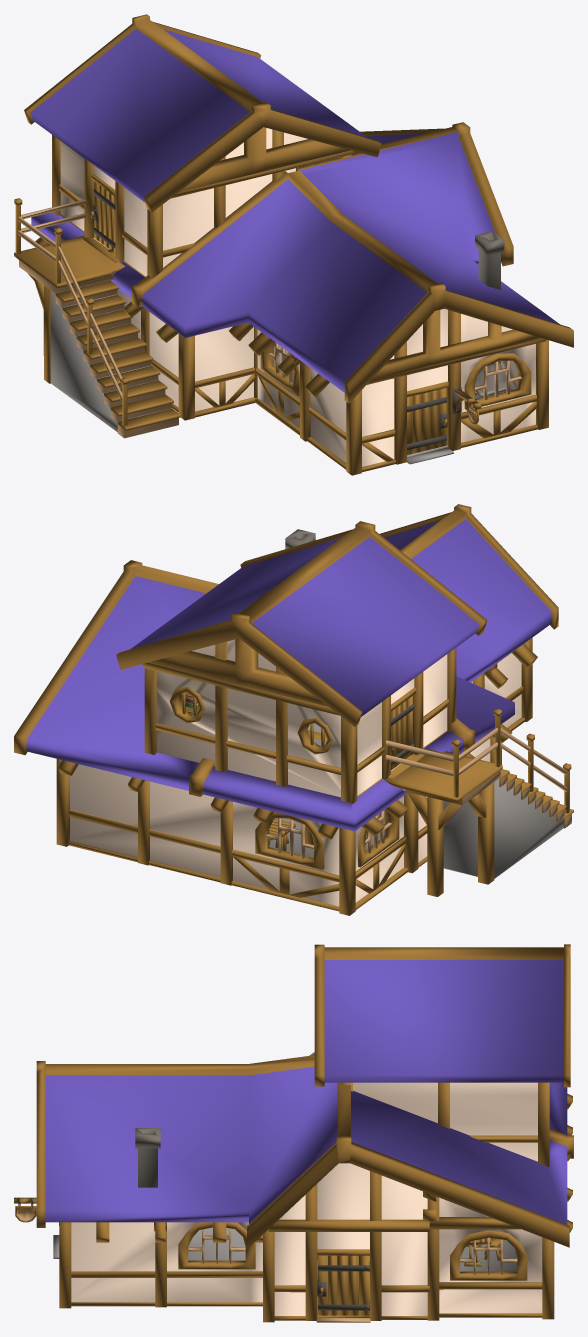
The model's file is SHOP_Mayoral.fbx.
3 views of the same model, one above another, from view 1: azimuth 30°, elevation 25°; view 2: azimuth 150°, elevation 25°; view 3: azimuth 270°, elevation 25° (orthographic). The views are drawn at different scales.
Visible parts, largest first — view 1: Empty_Mesh_2, Empty_Mesh, Empty_Mesh_1, Empty_Mesh_3; view 2: Empty_Mesh_2, Empty_Mesh, Empty_Mesh_1, Empty_Mesh_3; view 3: Empty_Mesh_2, Empty_Mesh, Empty_Mesh_1, Empty_Mesh_3.
Part boxes in pixels (x1,y1,x2,y2): Empty_Mesh_2: (24,14,573,403); Empty_Mesh: (14,128,548,475); Empty_Mesh_1: (91,181,447,455); Empty_Mesh_3: (475,231,506,397); Empty_Mesh_2: (14,504,558,831); Empty_Mesh: (56,637,573,915); Empty_Mesh_1: (391,696,414,770); Empty_Mesh_3: (269,529,385,851); Empty_Mesh_2: (36,944,573,1248); Empty_Mesh: (14,1052,572,1322); Empty_Mesh_1: (317,1255,369,1315); Empty_Mesh_3: (135,1128,500,1280).
Bounding box in the file's own units: 70.02 × 46.97 × 85.33.
